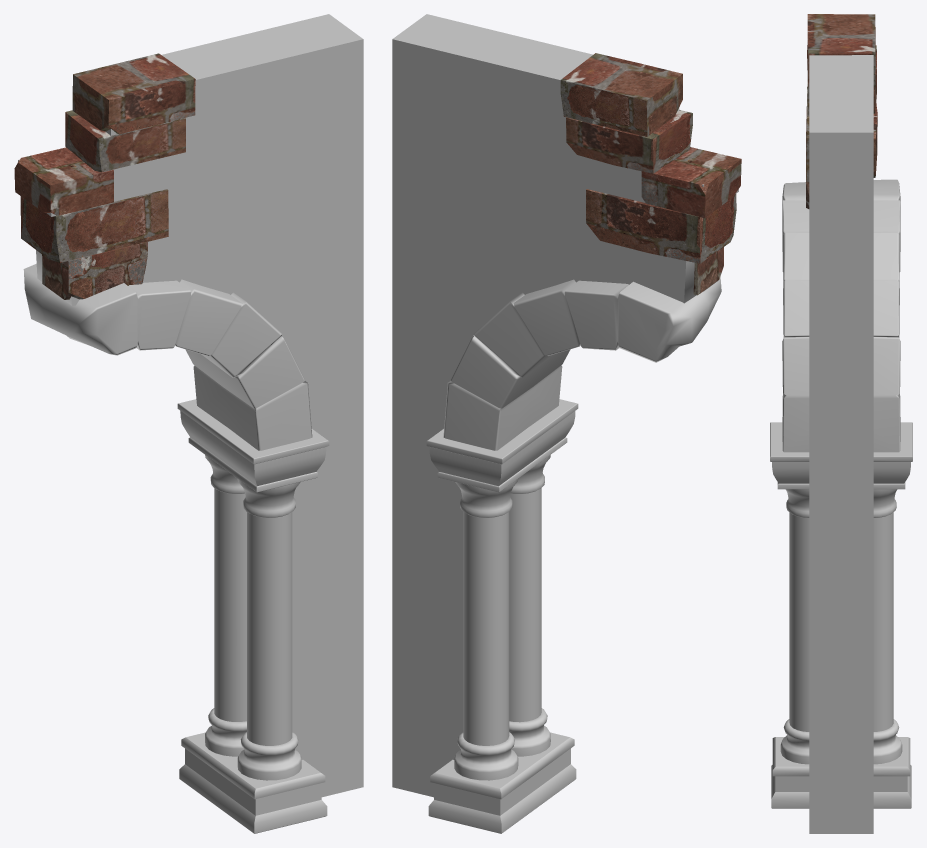
Rendered from SM_Archway_Ruined_05.fbx.
3 renders of one model, left to right at view 1: azimuth 30°, elevation 25°; view 2: azimuth 150°, elevation 25°; view 3: azimuth 270°, elevation 25°, orthographic. The views are drawn at different scales.
Parts seen in each view (by area): view 1: SM_Archway_Ruined_05_LOD0; view 2: SM_Archway_Ruined_05_LOD0; view 3: SM_Archway_Ruined_05_LOD0.
Part boxes in pixels (<box>): SM_Archway_Ruined_05_LOD0: <box>14,14,363,833</box>; SM_Archway_Ruined_05_LOD0: <box>392,14,741,833</box>; SM_Archway_Ruined_05_LOD0: <box>770,14,912,833</box>.
Size of what is drawn, in the model's own units: 264 by 602 by 111.
